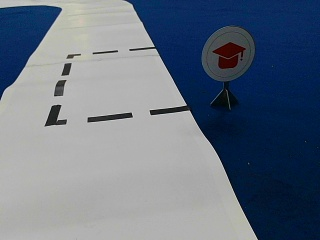school: (202, 26, 254, 80)
